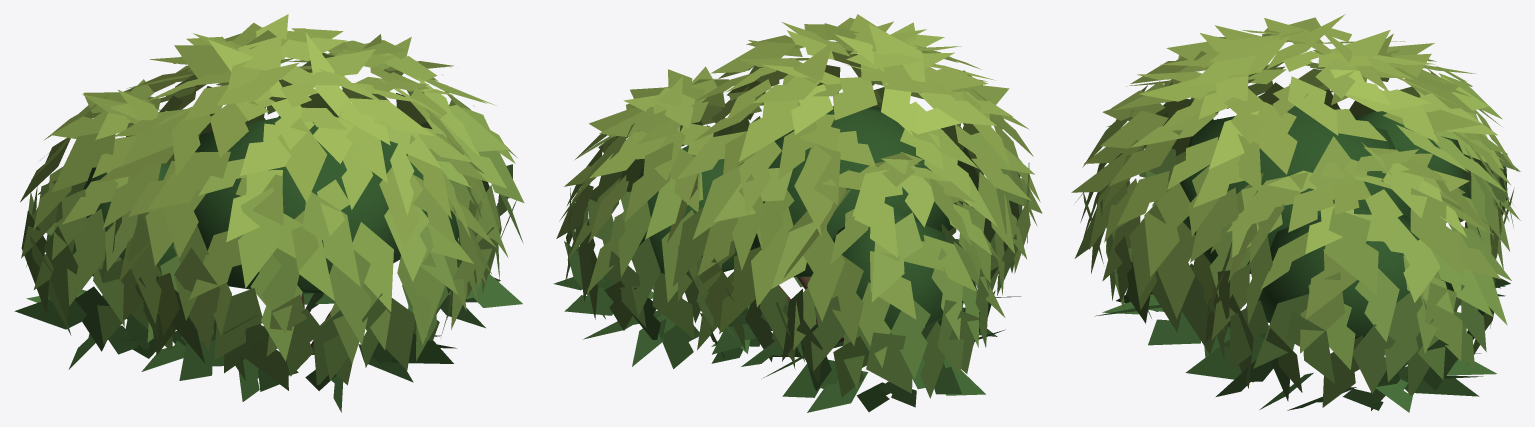
Rendered from dome_bush_2.glb.
The picture shows the model from 3 angles, left to right: view 1: azimuth 30°, elevation 25°; view 2: azimuth 150°, elevation 25°; view 3: azimuth 270°, elevation 25°; orthographic projection. The views are drawn at different scales.
Visible parts, largest first — view 1: dome_bush_2; view 2: dome_bush_2; view 3: dome_bush_2.
Boxes of the visible parts, x1,y1,x2,y2 form: dome_bush_2: [14, 14, 524, 412]; dome_bush_2: [553, 14, 1042, 412]; dome_bush_2: [1071, 14, 1520, 412].
Bounding box in the file's own units: 2.2 × 1.5 × 2.
Materials: 2 (2 with a texture image).
